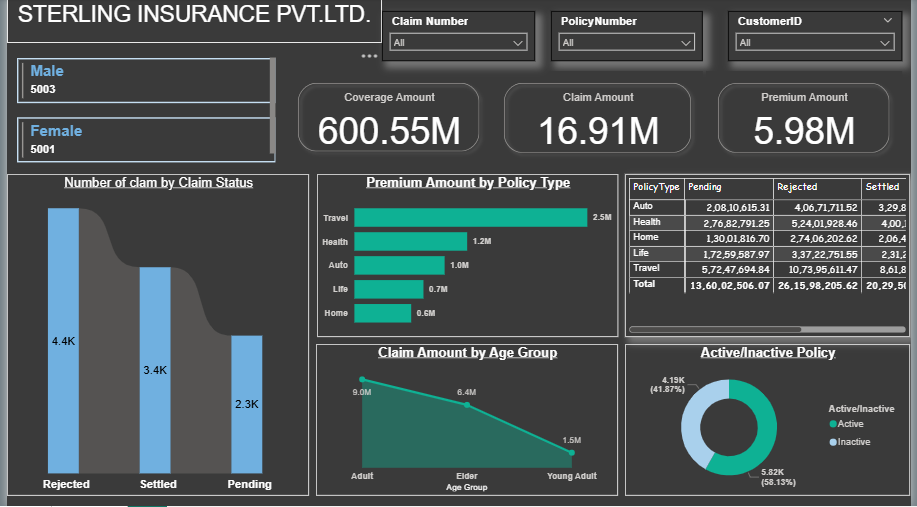

This screenshot's page, from the dashboard's own definition file:
{"tool":"powerbi","page":{"name":"Page 1","canvas":[1280,720],"ordinal":0},"visuals":[{"type":"slicer","fields":{"Values":["InsuranceData.PolicyNumber"]},"box":[771,18.4,215.4,70.9],"z":0},{"type":"slicer","fields":{"Values":["InsuranceData.CustomerID"]},"box":[1021.9,18.4,246.6,70.9],"z":1000},{"type":"textbox","box":[0,0,531.5,63.8],"z":2000},{"type":"cardVisual","fields":{"Data":["Sum(InsuranceData.PremiumAmount)"]},"box":[990.7,103.5,277.8,133.2],"z":3000},{"type":"cardVisual","fields":{"Data":["Sum(InsuranceData.ClaimAmount)"]},"box":[687.4,103.5,299.1,133.2],"z":4000},{"type":"multiRowCard","fields":{"Values":["CountNonNull(InsuranceData.Gender)","InsuranceData.Gender"]},"box":[8.5,79.4,377,161.6],"z":5000},{"type":"ribbonChart","title":"Number of clam by Claim Status","fields":{"Category":["InsuranceData.ClaimStatus"],"Y":["CountNonNull(InsuranceData.ClaimStatus)"]},"box":[0,249.4,428,456.4],"z":6000},{"type":"cardVisual","fields":{"Data":["Sum(InsuranceData.CoverageAmount)"]},"box":[395.4,103.5,292,131.8],"z":7000},{"type":"slicer","fields":{"Values":["InsuranceData.ClaimNumber"]},"box":[531.5,18.4,216.9,70.9],"z":8000},{"type":"barChart","title":"Premium Amount by Policy Type","fields":{"Category":["InsuranceData.PolicyType"],"Y":["Sum(InsuranceData.PremiumAmount)"]},"box":[439.4,249.4,426.6,231],"z":9000},{"type":"lineChart","title":"Claim Amount by Age Group","fields":{"Category":["InsuranceData.Age Group"],"Y":["Sum(InsuranceData.ClaimAmount)"]},"box":[438,490.4,428,215.4],"z":10000},{"type":"donutChart","title":"Active/Inactive Policy","fields":{"Category":["InsuranceData.Active/Inactive"],"Y":["CountNonNull(InsuranceData.Active/Inactive)"]},"box":[875.9,490.4,403.9,215.4],"z":11000},{"type":"pivotTable","fields":{"Values":["Sum(InsuranceData.CoverageAmount)"],"Rows":["InsuranceData.PolicyType"],"Columns":["InsuranceData.ClaimStatus"]},"box":[875.9,249.4,403.9,231],"z":12000}]}

Visuals, with their boxes in screenshot pixels (x1, y1, x2, y2), scaled from the page's 1280x720 canvas onto the 917x507 screenshot:
slicer - InsuranceData.PolicyNumber: [x1=552, y1=13, x2=707, y2=63]
slicer - InsuranceData.CustomerID: [x1=732, y1=13, x2=909, y2=63]
textbox: [x1=0, y1=0, x2=381, y2=45]
cardVisual - Sum(InsuranceData.PremiumAmount): [x1=710, y1=73, x2=909, y2=167]
cardVisual - Sum(InsuranceData.ClaimAmount): [x1=492, y1=73, x2=707, y2=167]
multiRowCard - CountNonNull(InsuranceData.Gender) x InsuranceData.Gender: [x1=6, y1=56, x2=276, y2=170]
"Number of clam by Claim Status" ribbonChart: [x1=0, y1=176, x2=307, y2=497]
cardVisual - Sum(InsuranceData.CoverageAmount): [x1=283, y1=73, x2=492, y2=166]
slicer - InsuranceData.ClaimNumber: [x1=381, y1=13, x2=536, y2=63]
"Premium Amount by Policy Type" barChart: [x1=315, y1=176, x2=620, y2=338]
"Claim Amount by Age Group" lineChart: [x1=314, y1=345, x2=620, y2=497]
"Active/Inactive Policy" donutChart: [x1=628, y1=345, x2=916, y2=497]
pivotTable - Sum(InsuranceData.CoverageAmount) x InsuranceData.PolicyType: [x1=628, y1=176, x2=916, y2=338]
